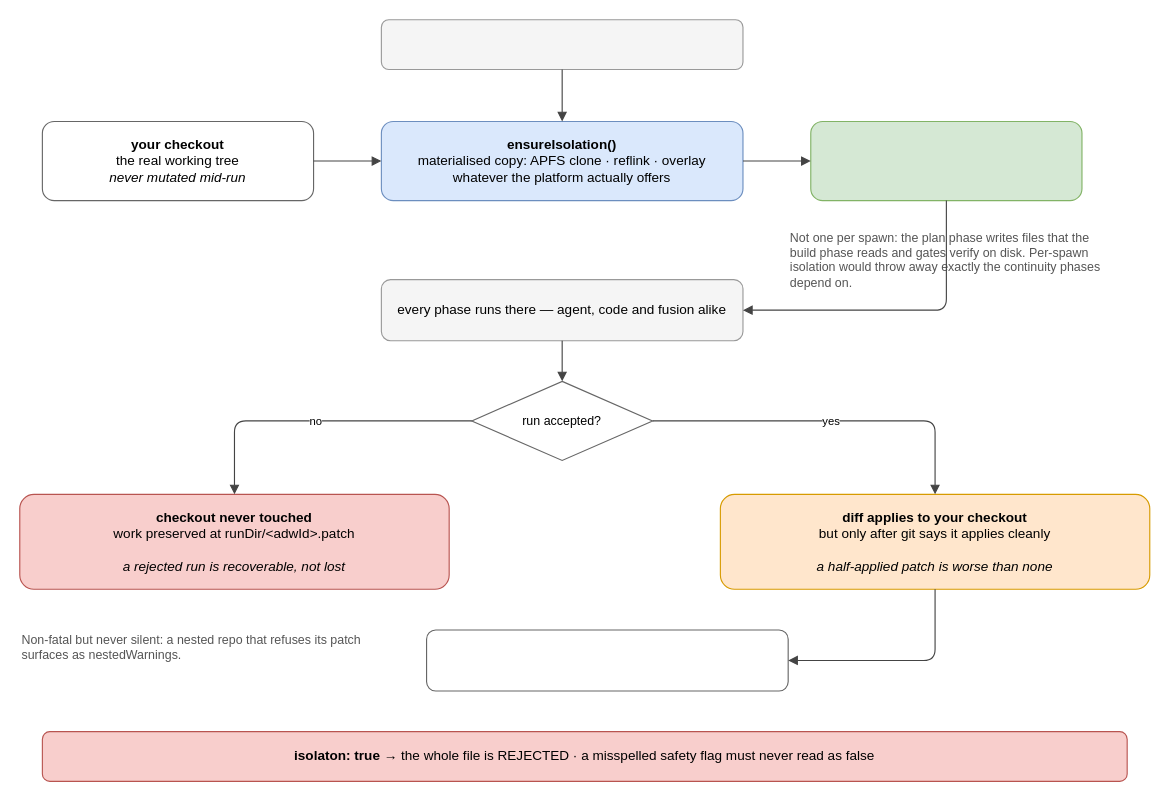
Image size: 1170x801. Some labels were removed from this diagram. Each missing label, with the box of its shape:
isolation: true in the workflow yml: (380, 19, 743, 69)
nested-repo patches captured and applied only after the root landed: (425, 629, 788, 691)
workRoot = sandbox ONE sandbox for the WHOLE workflow: (810, 120, 1082, 201)
